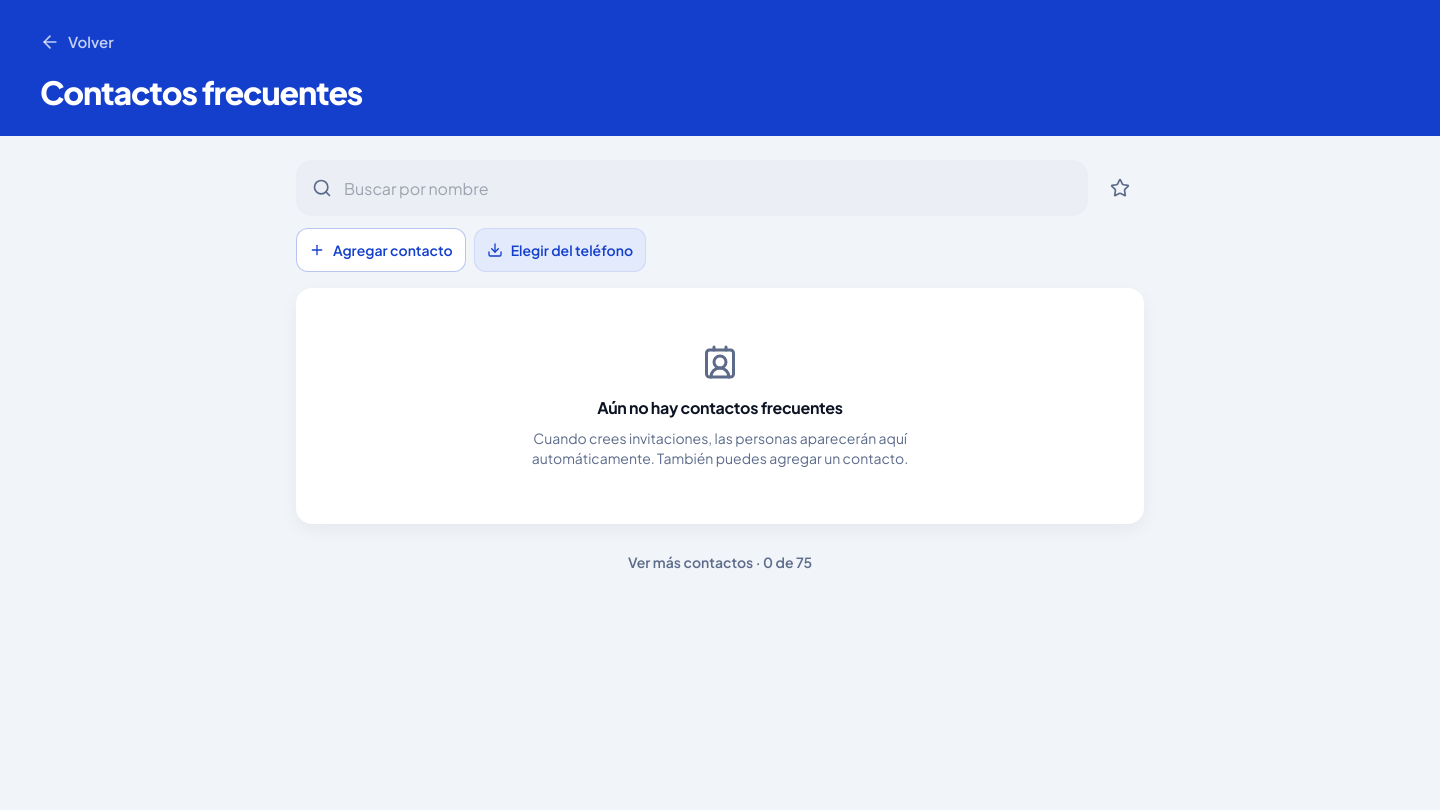
Scenario: ResidentContactsManager › marca como duplicados contactos guardados fuera de la página visible antes de importar
Step 1. Click the button "Elegir del teléfono" → coordinates (560, 250), box 474,228 -> 646,272
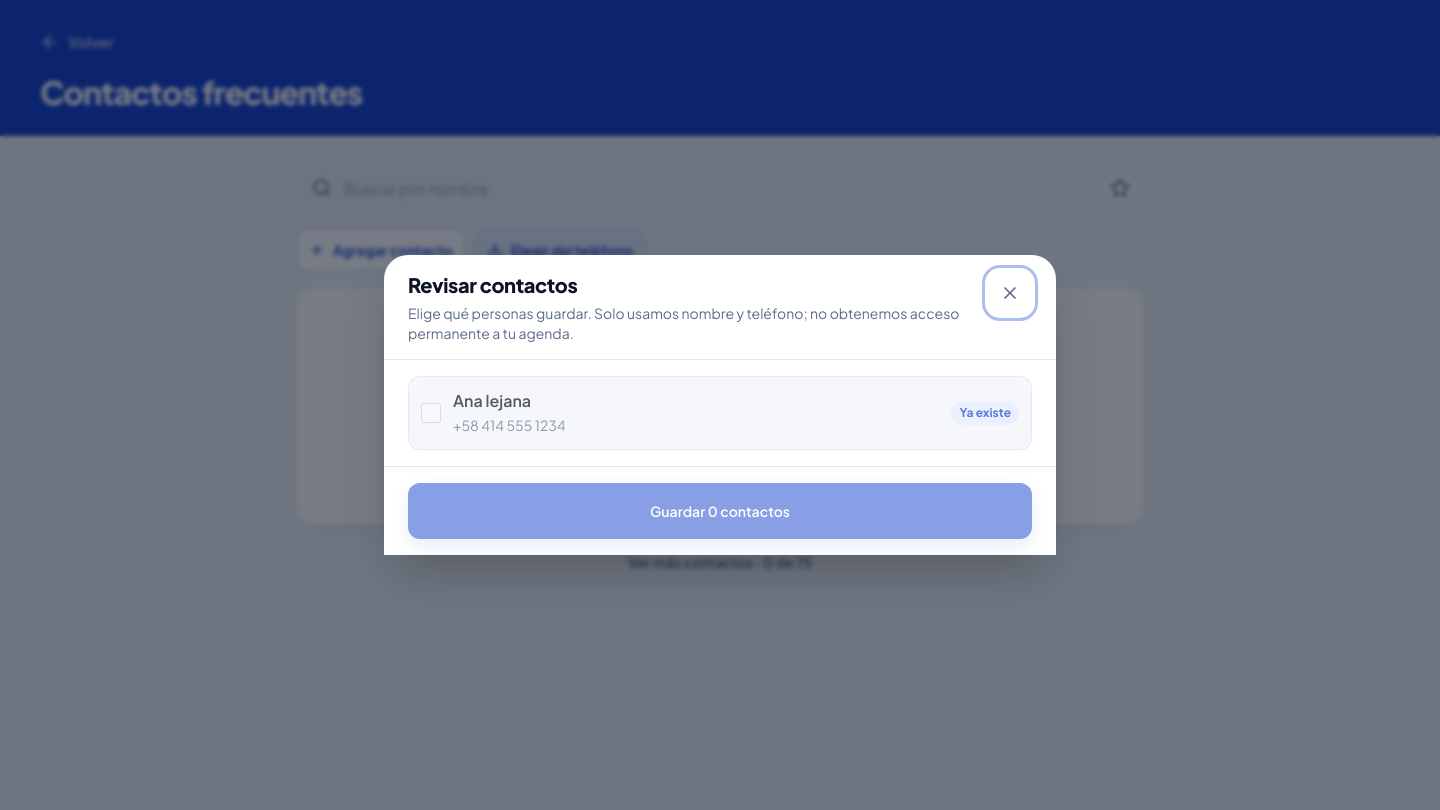
Expected: the text "Ya existe" is shown, 952,401 -> 1019,425
Expected: the button "Guardar 0 contactos" is disabled, 408,483 -> 1032,539
